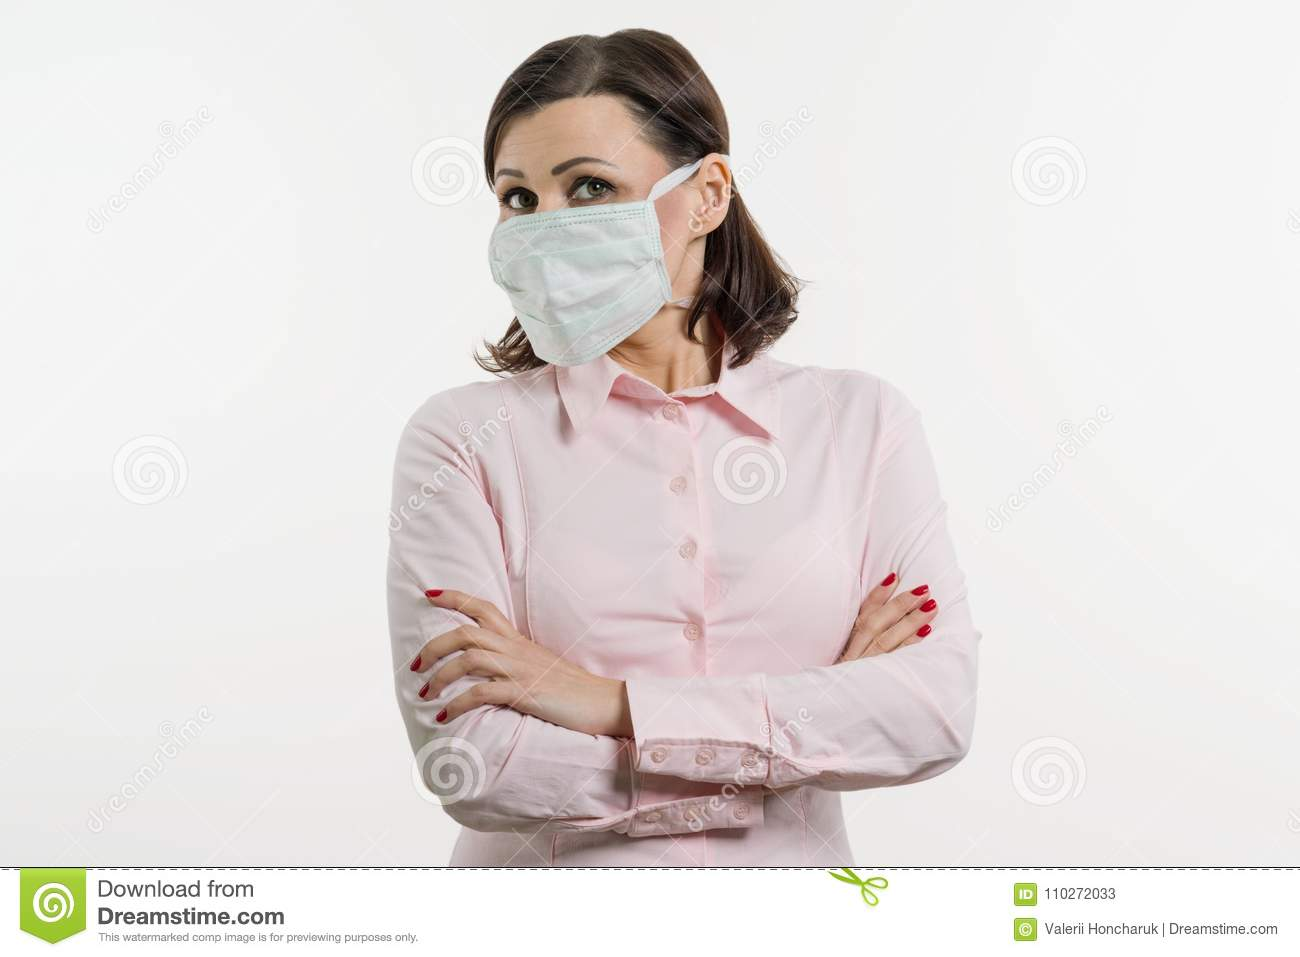mask: (490, 206, 673, 361)
